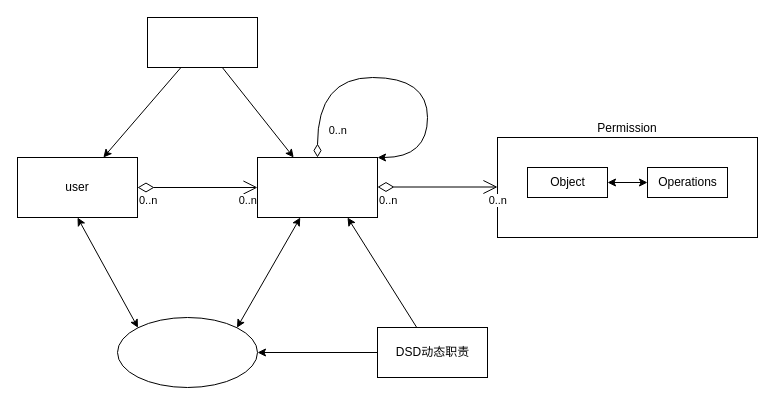
Some shapes in this 775 by 405 pixel diagram are drawn without their labels. Here are the shapes that lost their labels. From the top down, the box of each, then its label:
(146, 16, 258, 68): SSD静态职责
(256, 156, 378, 218): role
(116, 316, 258, 388): Session
